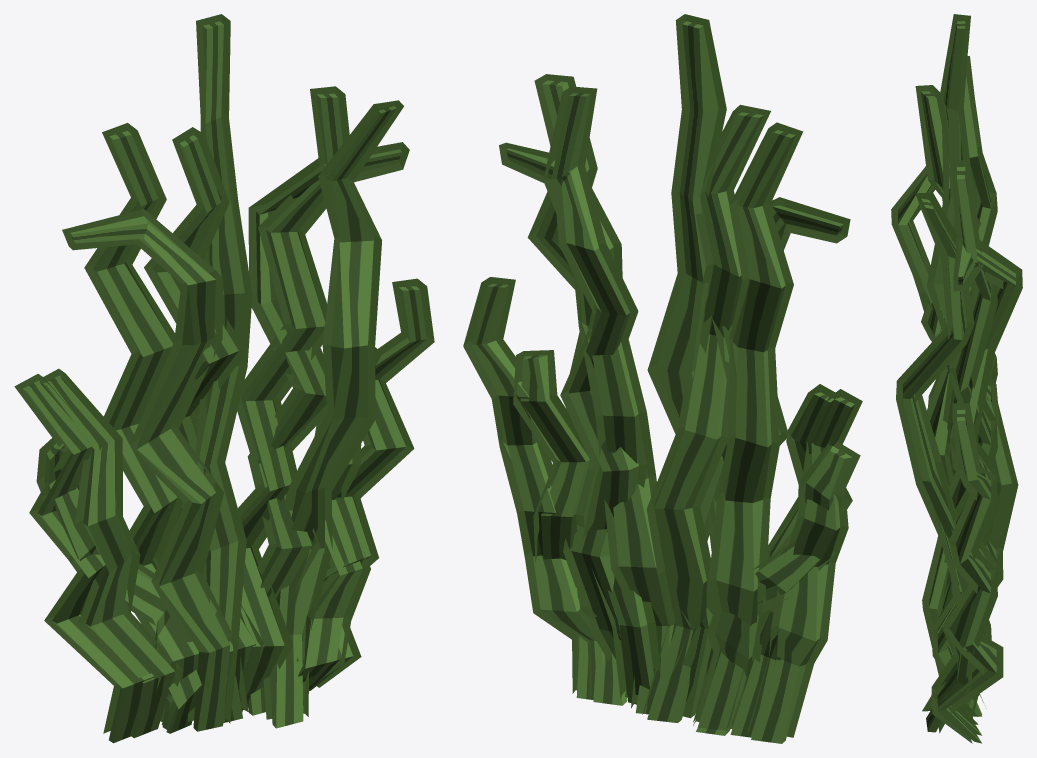
Rendered from environment.glb.
The picture shows the model from 3 angles, left to right: view 1: azimuth 30°, elevation 25°; view 2: azimuth 150°, elevation 25°; view 3: azimuth 270°, elevation 25°; orthographic projection. The views are drawn at different scales.
Parts seen in each view (by area): view 1: Kelp.009, Kelp.014, Kelp.010, Kelp.006, Kelp.004, Kelp.011, Kelp.005, Kelp.007, Kelp.008, Kelp.013, Kelp.012, Kelp.015; view 2: Kelp.006, Kelp.013, Kelp.005, Kelp.004, Kelp.010, Kelp.008, Kelp.007, Kelp.012, Kelp.014, Kelp.015, Kelp.011, Kelp.009; view 3: Kelp.008, Kelp.014, Kelp.010, Kelp.004, Kelp.009, Kelp.013, Kelp.005, Kelp.006, Kelp.012.
Part boxes in pixels (x1=…): Kelp.009: x1=62, y1=209, x2=237, y2=731; Kelp.014: x1=263, y1=100, x2=403, y2=728; Kelp.010: x1=235, y1=86, x2=349, y2=710; Kelp.006: x1=84, y1=123, x2=198, y2=729; Kelp.004: x1=195, y1=14, x2=252, y2=722; Kelp.011: x1=43, y1=368, x2=183, y2=738; Kelp.005: x1=247, y1=142, x2=409, y2=715; Kelp.007: x1=14, y1=374, x2=162, y2=743; Kelp.008: x1=309, y1=278, x2=434, y2=690; Kelp.013: x1=144, y1=127, x2=263, y2=712; Kelp.012: x1=296, y1=347, x2=382, y2=681; Kelp.015: x1=36, y1=438, x2=209, y2=733; Kelp.006: x1=693, y1=122, x2=803, y2=730; Kelp.013: x1=642, y1=104, x2=770, y2=722; Kelp.005: x1=499, y1=142, x2=660, y2=704; Kelp.004: x1=647, y1=14, x2=727, y2=718; Kelp.010: x1=543, y1=86, x2=674, y2=714; Kelp.008: x1=463, y1=277, x2=603, y2=699; Kelp.007: x1=746, y1=389, x2=862, y2=743; Kelp.012: x1=513, y1=350, x2=627, y2=705; Kelp.014: x1=527, y1=74, x2=620, y2=661; Kelp.015: x1=693, y1=441, x2=860, y2=735; Kelp.011: x1=726, y1=384, x2=852, y2=737; Kelp.009: x1=695, y1=197, x2=850, y2=713; Kelp.008: x1=931, y1=403, x2=1003, y2=743; Kelp.014: x1=896, y1=193, x2=974, y2=733; Kelp.010: x1=931, y1=160, x2=1003, y2=716; Kelp.004: x1=926, y1=14, x2=970, y2=619; Kelp.009: x1=891, y1=166, x2=953, y2=675; Kelp.013: x1=915, y1=85, x2=1018, y2=714; Kelp.005: x1=950, y1=237, x2=1022, y2=717; Kelp.006: x1=963, y1=56, x2=997, y2=382; Kelp.012: x1=931, y1=440, x2=997, y2=735.
Bounding box in the file's own units: 1.1 × 1.84 × 0.3232.
2 materials, 1 textured.
